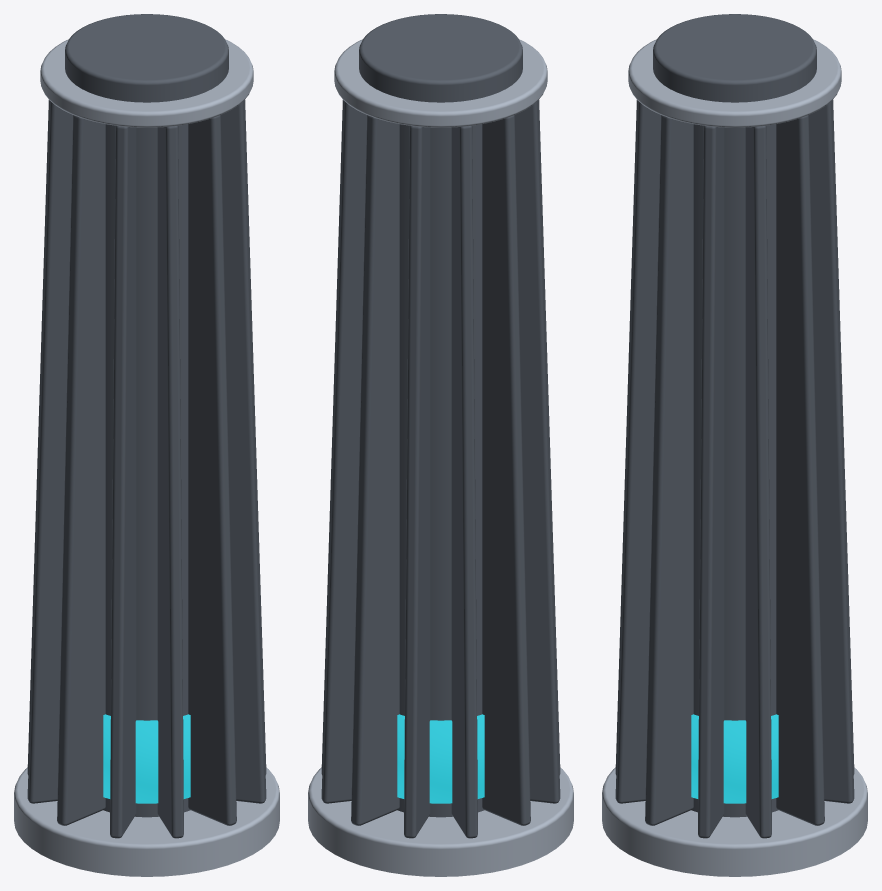
File: column-fin.glb
3 views of the same model, side by side, from view 1: azimuth 30°, elevation 25°; view 2: azimuth 150°, elevation 25°; view 3: azimuth 270°, elevation 25° (orthographic).
Visible parts, largest first — view 1: column-fin-blades, column-fin-core, column-fin-steel, column-fin-glow; view 2: column-fin-blades, column-fin-core, column-fin-steel, column-fin-glow; view 3: column-fin-blades, column-fin-core, column-fin-steel, column-fin-glow.
Boxes of the visible parts, left/top/right/bottom form: column-fin-blades: left=27, top=100, right=266, bottom=838; column-fin-core: left=65, top=14, right=228, bottom=817; column-fin-steel: left=14, top=39, right=279, bottom=876; column-fin-glow: left=103, top=714, right=190, bottom=803; column-fin-blades: left=321, top=100, right=560, bottom=838; column-fin-core: left=359, top=14, right=522, bottom=817; column-fin-steel: left=308, top=39, right=573, bottom=876; column-fin-glow: left=397, top=714, right=484, bottom=803; column-fin-blades: left=615, top=100, right=854, bottom=838; column-fin-core: left=653, top=14, right=816, bottom=817; column-fin-steel: left=602, top=39, right=867, bottom=876; column-fin-glow: left=691, top=714, right=778, bottom=803.
Bounding box in the file's own units: 3.24 × 10.4 × 3.24.
